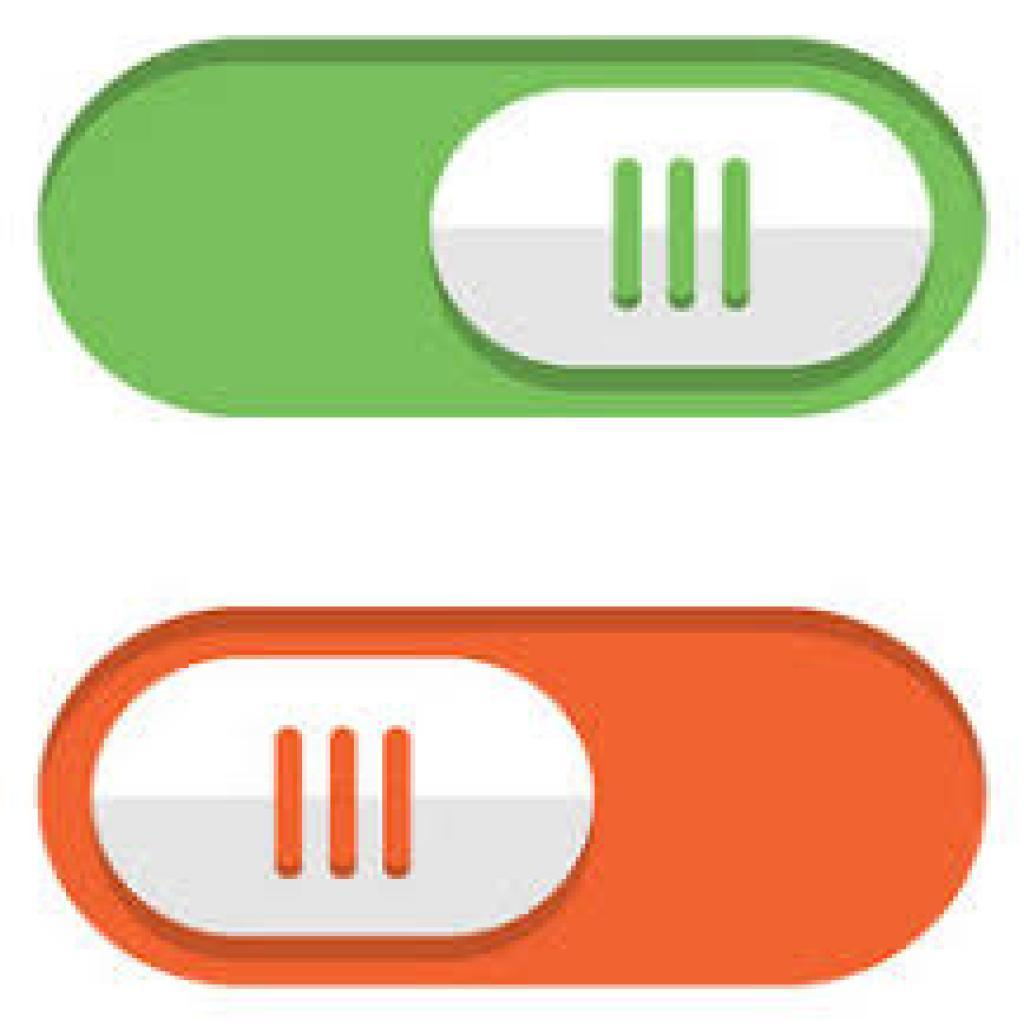switch: (26, 599, 1004, 1010), (29, 27, 999, 434)
